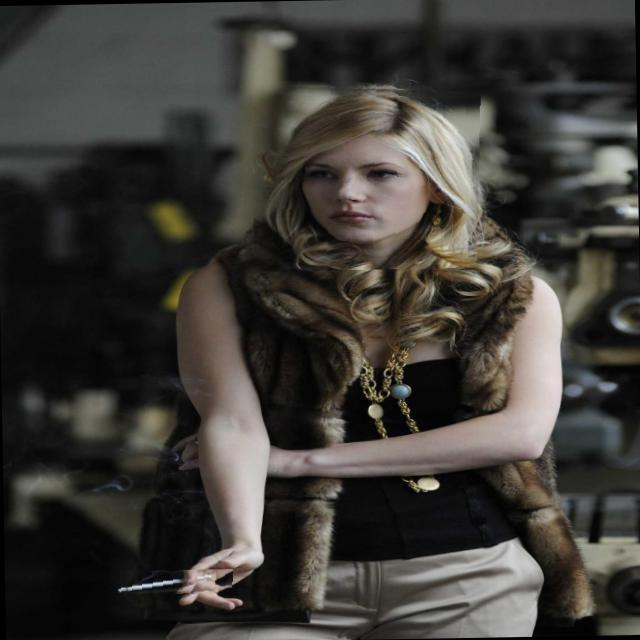cigarette: (96, 568, 234, 602)
